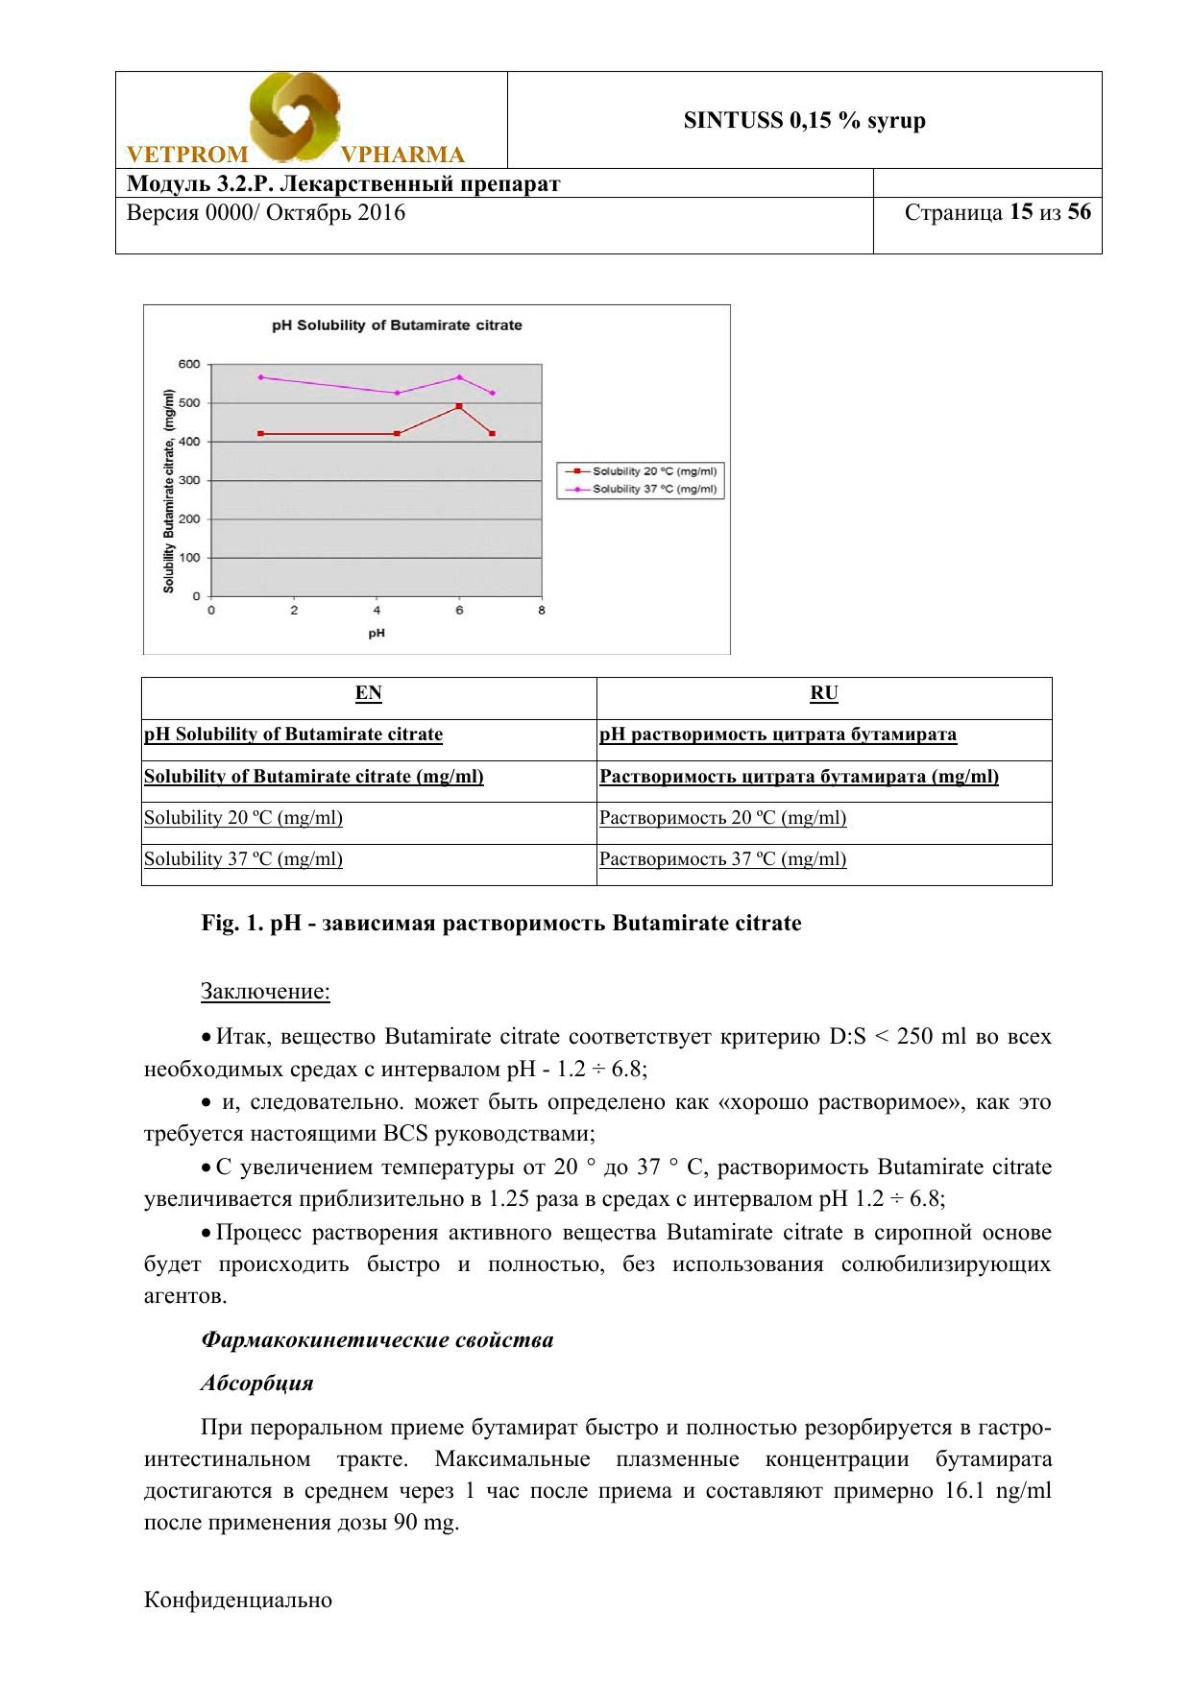full_lined: (139, 673, 1055, 888)
merged_cells: (112, 70, 1103, 255)
